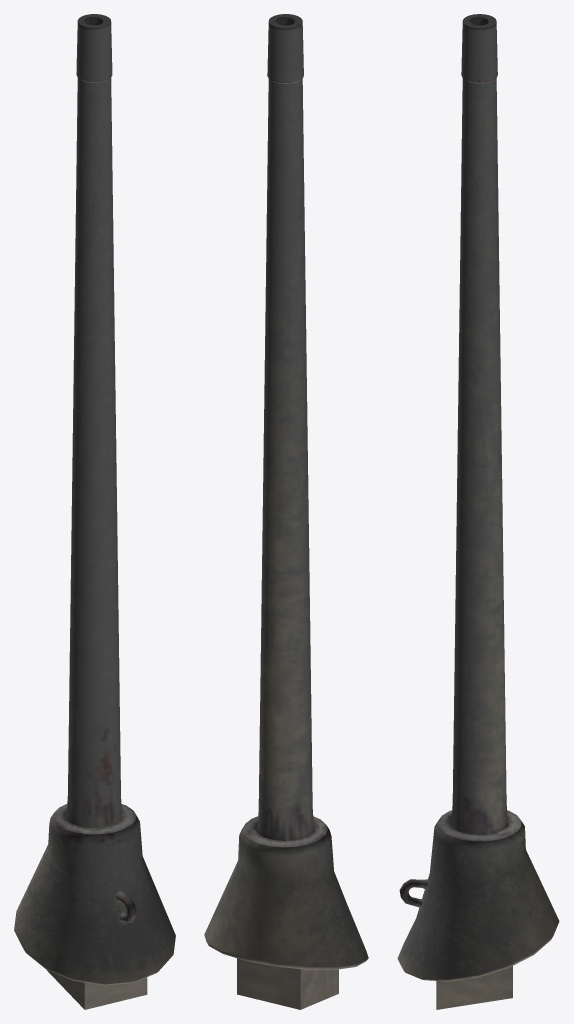
Rendered from Gun_02.glb.
3 views of the same model, side by side, from view 1: azimuth 30°, elevation 25°; view 2: azimuth 150°, elevation 25°; view 3: azimuth 270°, elevation 25° (orthographic).
Visible parts, largest first — view 1: set_0_group_0; view 2: set_0_group_0; view 3: set_0_group_0.
Part boxes in pixels (x1=…): set_0_group_0: x1=14, y1=14, x2=175, y2=1009; set_0_group_0: x1=204, y1=14, x2=368, y2=1009; set_0_group_0: x1=397, y1=14, x2=559, y2=1009.
Size of the model in its own units: 0.6873 by 4.47 by 0.6744.
Materials: 1 (1 with a texture image).
